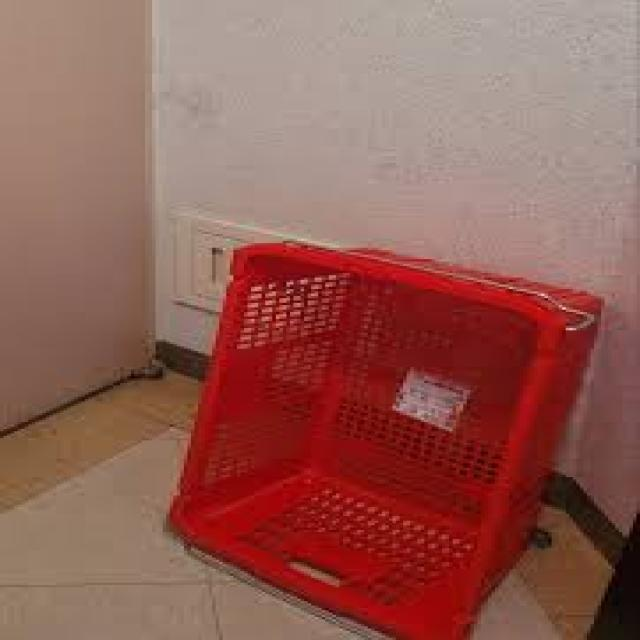basket: (140, 192, 606, 640)
